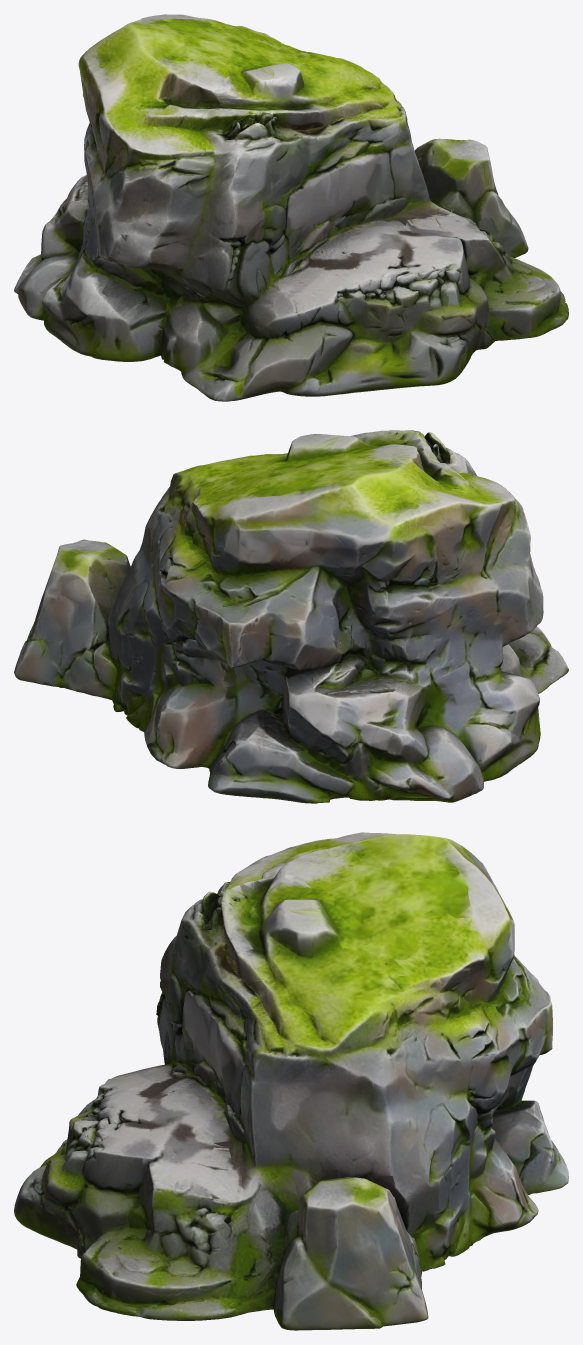
Rendered from rock.glb.
3 views of the same model, one above another, from view 1: azimuth 30°, elevation 25°; view 2: azimuth 150°, elevation 25°; view 3: azimuth 270°, elevation 25° (orthographic). The views are drawn at different scales.
Parts seen in each view (by area): view 1: rock; view 2: rock; view 3: rock.
Boxes of the visible parts, x1=… form: rock: x1=14, y1=14, x2=568, y2=401; rock: x1=14, y1=430, x2=568, y2=803; rock: x1=14, y1=832, x2=568, y2=1330.
Bounding box in the file's own units: 1.9 × 1.06 × 1.74.
1 material, 1 textured.
